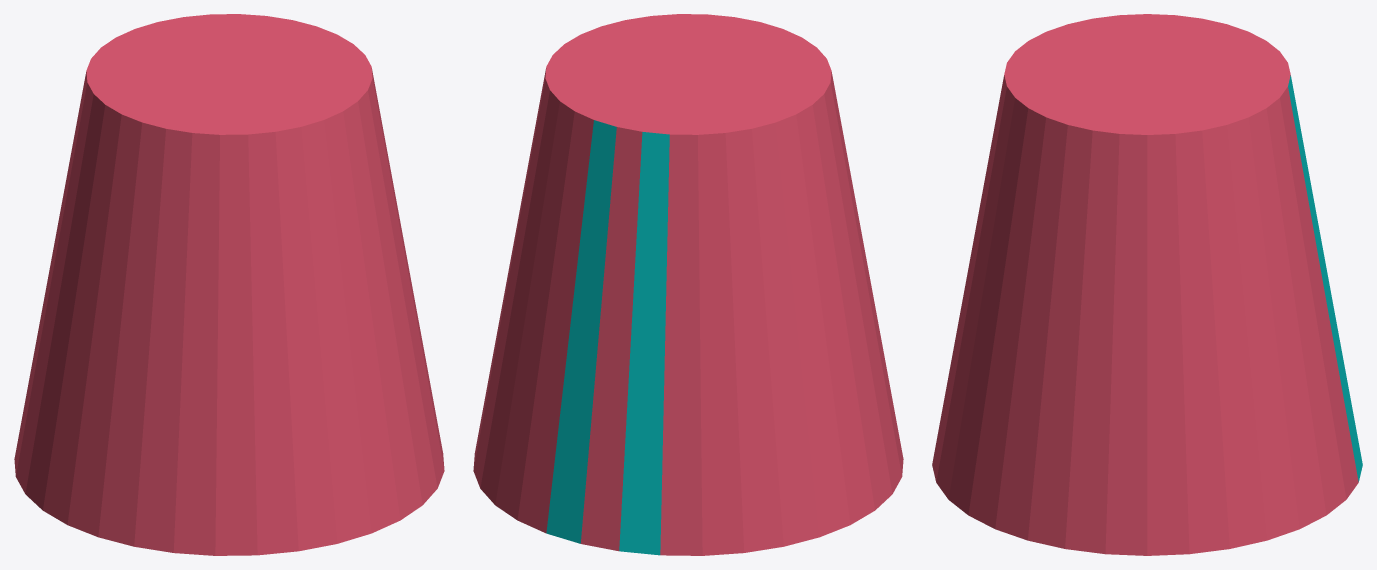
File: trashcan.glb
3 renders of one model, left to right at view 1: azimuth 30°, elevation 25°; view 2: azimuth 150°, elevation 25°; view 3: azimuth 270°, elevation 25°, orthographic.
Parts seen in each view (by area): view 1: Cylinder; view 2: Cylinder; view 3: Cylinder.
Boxes of the visible parts, x1,y1,x2,y2 form: Cylinder: [14, 14, 444, 555]; Cylinder: [473, 14, 903, 555]; Cylinder: [932, 14, 1362, 555].
Bounding box in the file's own units: 2 × 2 × 2.
